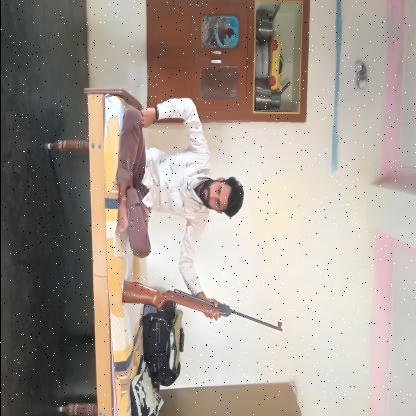rifle: (121, 279, 282, 332)
